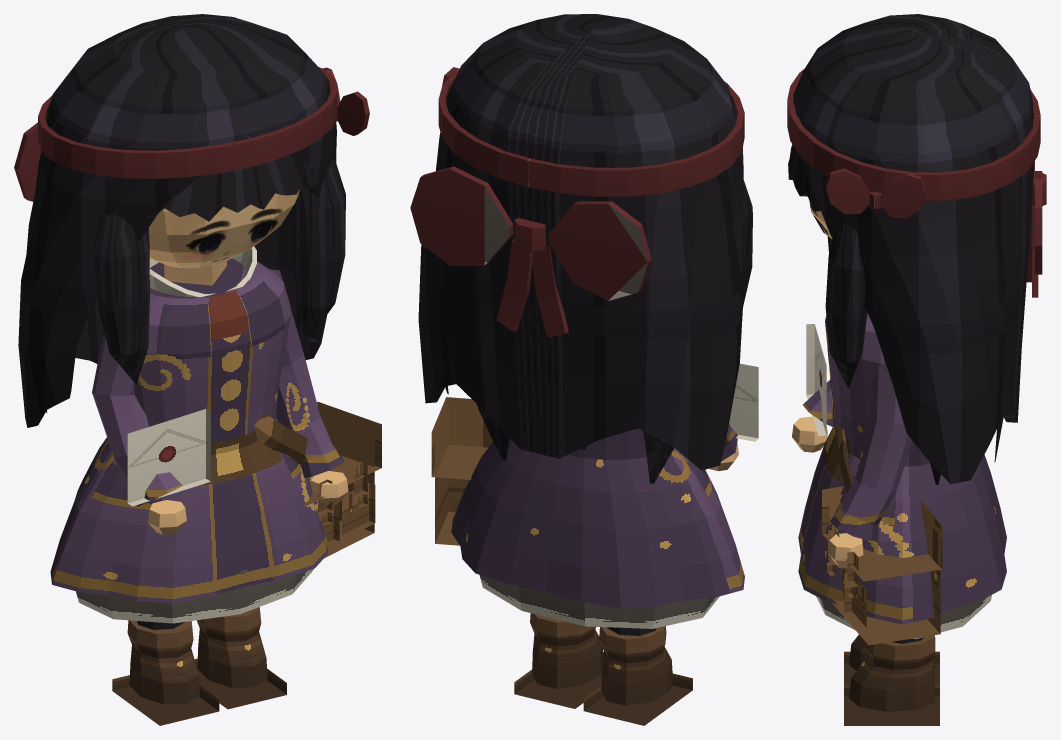
The model's file is postmaster-v09.glb.
3 renders of one model, left to right at view 1: azimuth 30°, elevation 25°; view 2: azimuth 150°, elevation 25°; view 3: azimuth 270°, elevation 25°, orthographic. The views are drawn at different scales.
Visible parts, largest first — view 1: postmaster; view 2: postmaster; view 3: postmaster.
Part boxes in pixels (x1,y1,x2,y2): postmaster: (14,14,381,725); postmaster: (410,14,758,725); postmaster: (787,14,1046,725).
Size of the model in its own units: 1.3 by 2.56 by 0.9089.
2 materials, 2 textured.
